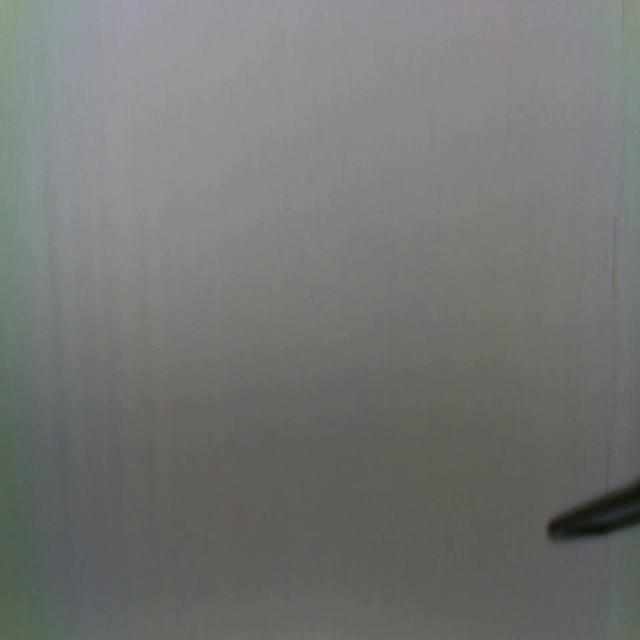crease: (608, 216, 621, 303), (602, 446, 613, 494), (619, 0, 628, 44)
